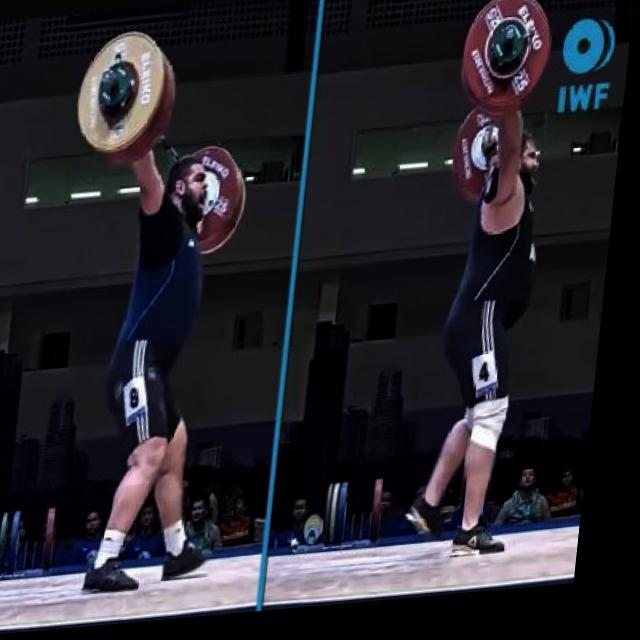barbell: (69, 28, 174, 164), (455, 1, 561, 125)
